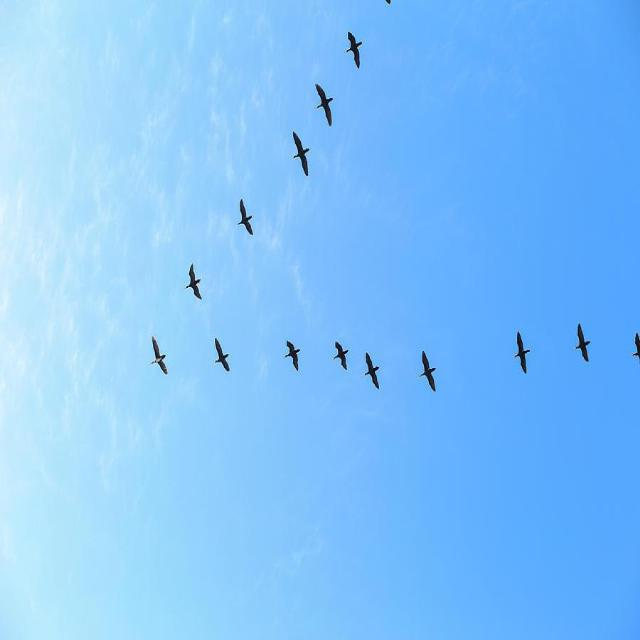bird: (290, 128, 312, 178), (312, 82, 334, 130), (418, 348, 439, 393), (511, 331, 532, 376), (235, 195, 256, 237), (149, 334, 170, 375), (362, 349, 382, 392), (343, 31, 364, 71), (183, 261, 204, 301), (212, 336, 233, 374), (574, 322, 592, 363), (282, 339, 302, 373), (332, 339, 350, 372)
